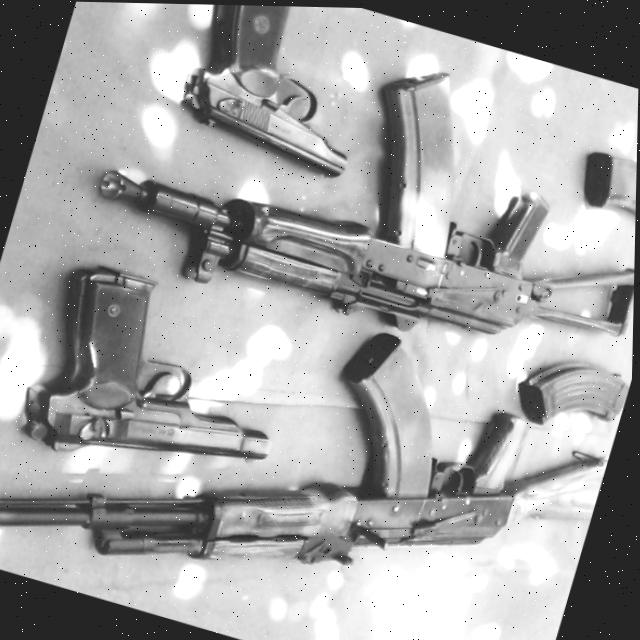firearm: (0, 219, 630, 640), (75, 1, 640, 400)
pistol: (0, 244, 311, 509), (167, 3, 391, 183)
